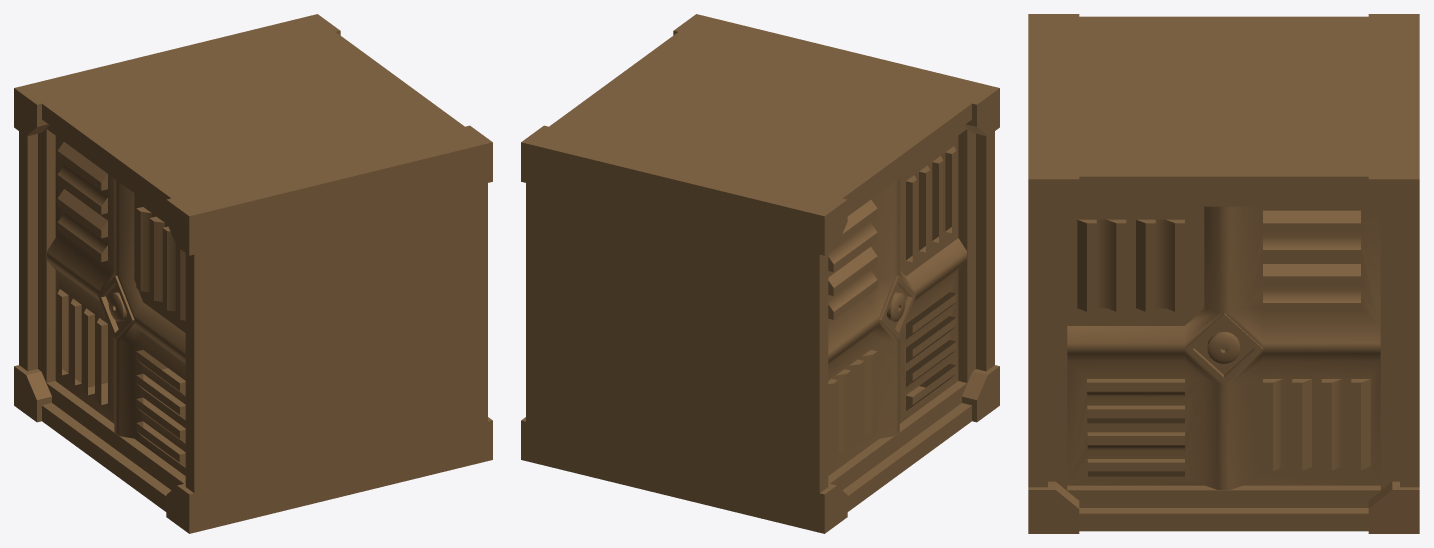
Rendered from blocknomove.fbx.
The picture shows the model from 3 angles, left to right: view 1: azimuth 30°, elevation 25°; view 2: azimuth 150°, elevation 25°; view 3: azimuth 270°, elevation 25°; orthographic projection. The views are drawn at different scales.
Visible parts, largest first — view 1: pPipe4; view 2: pPipe4; view 3: pPipe4.
Part boxes in pixels (x1,y1,x2,y2): pPipe4: (14, 14, 492, 533); pPipe4: (521, 14, 999, 533); pPipe4: (1028, 14, 1419, 533).
Bounding box in the file's own units: 100 × 100 × 100.
